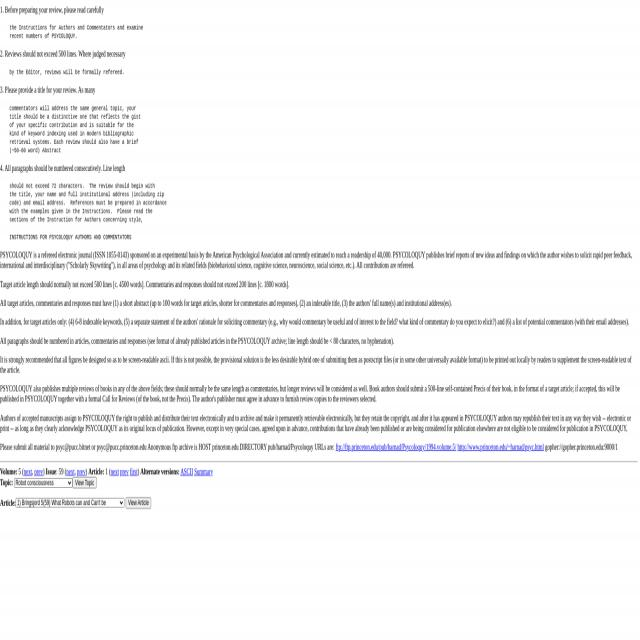button: (126, 496, 150, 509), (72, 477, 96, 488)
field: (15, 498, 125, 508), (14, 478, 72, 488)
